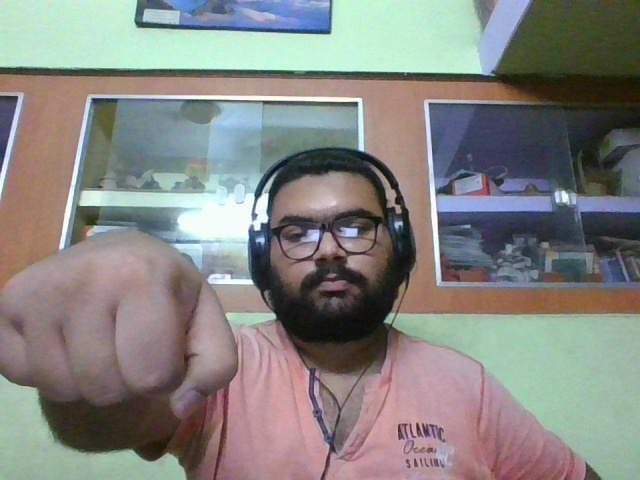yes: (1, 231, 252, 429)
